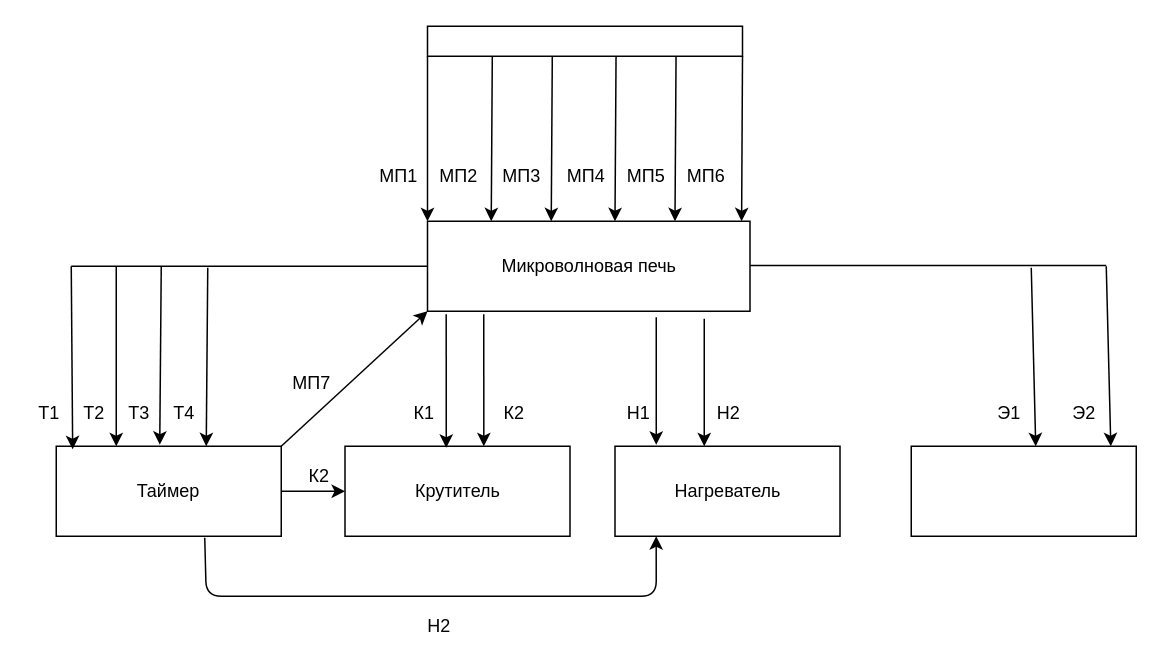
The diagram is 1163 pixels wide and 668 high, and some of its shapes have lost their labels. Here are the shapes that lost their labels. From the top down, the centre of each, then its label:
point 584,40: Пользователь
point 1023,490: Электровилка
